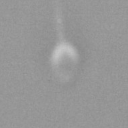normal: (44, 1, 77, 41)
